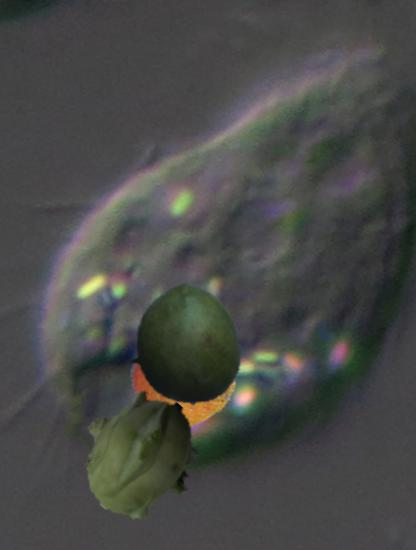Kohlrabi: (77, 392, 205, 520)
Mandarine: (130, 324, 237, 431)
Mango: (124, 283, 247, 406)
